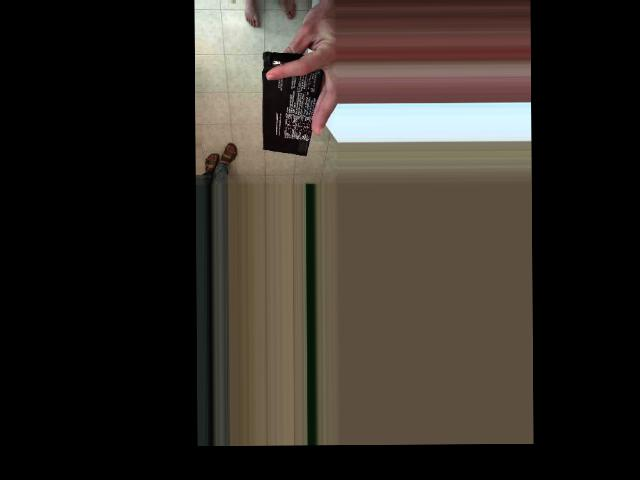chocolate: (260, 52, 326, 159)
